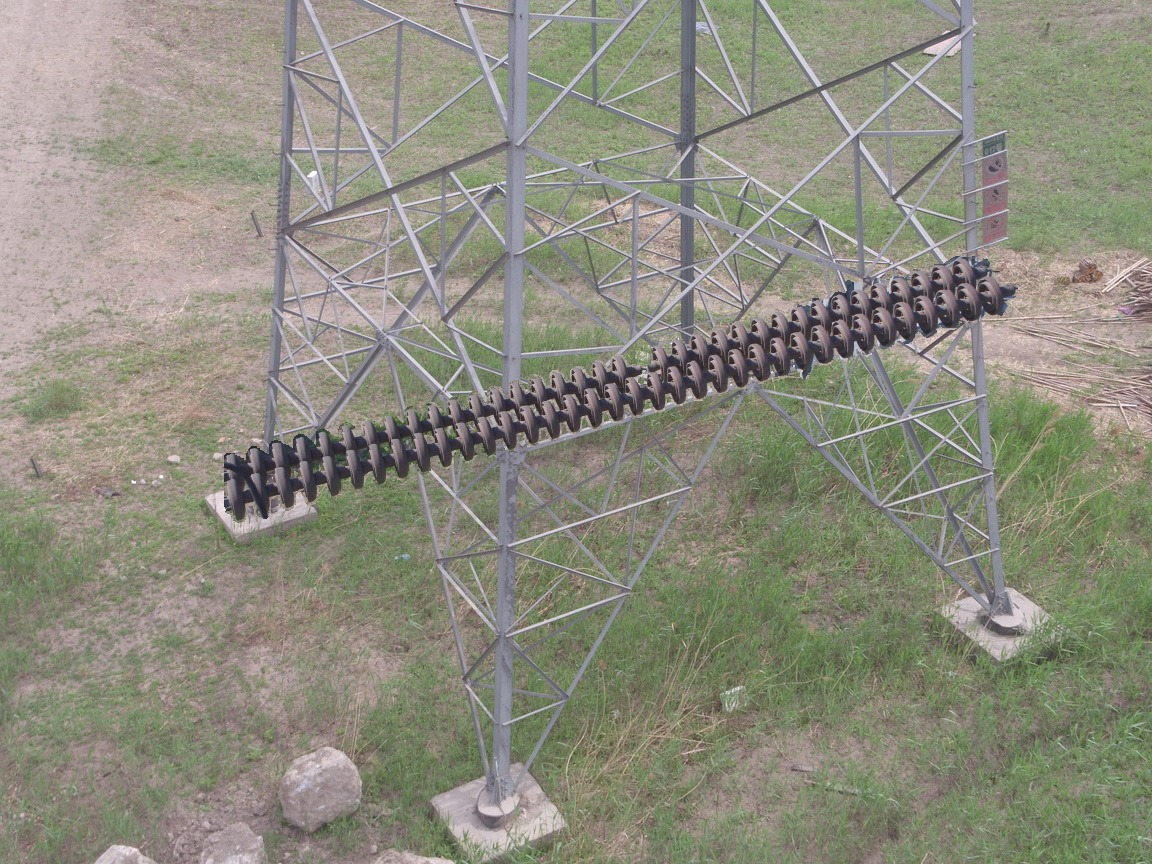defect: (608, 345, 672, 386)
